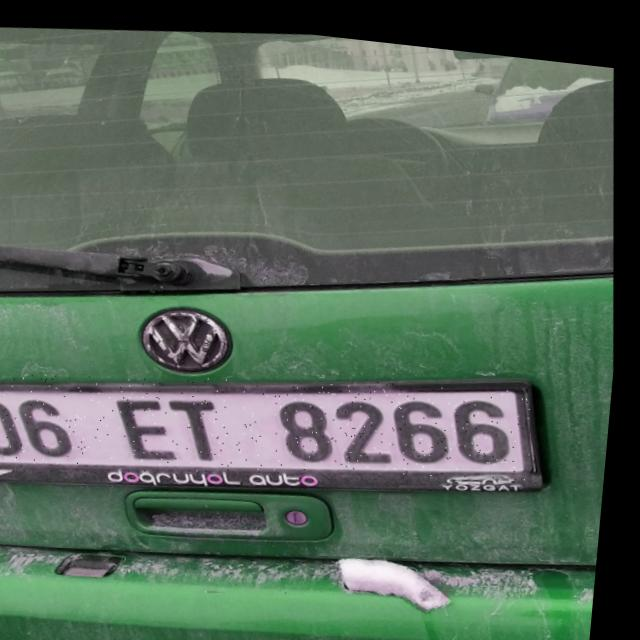license_plate: (0, 324, 544, 516)
